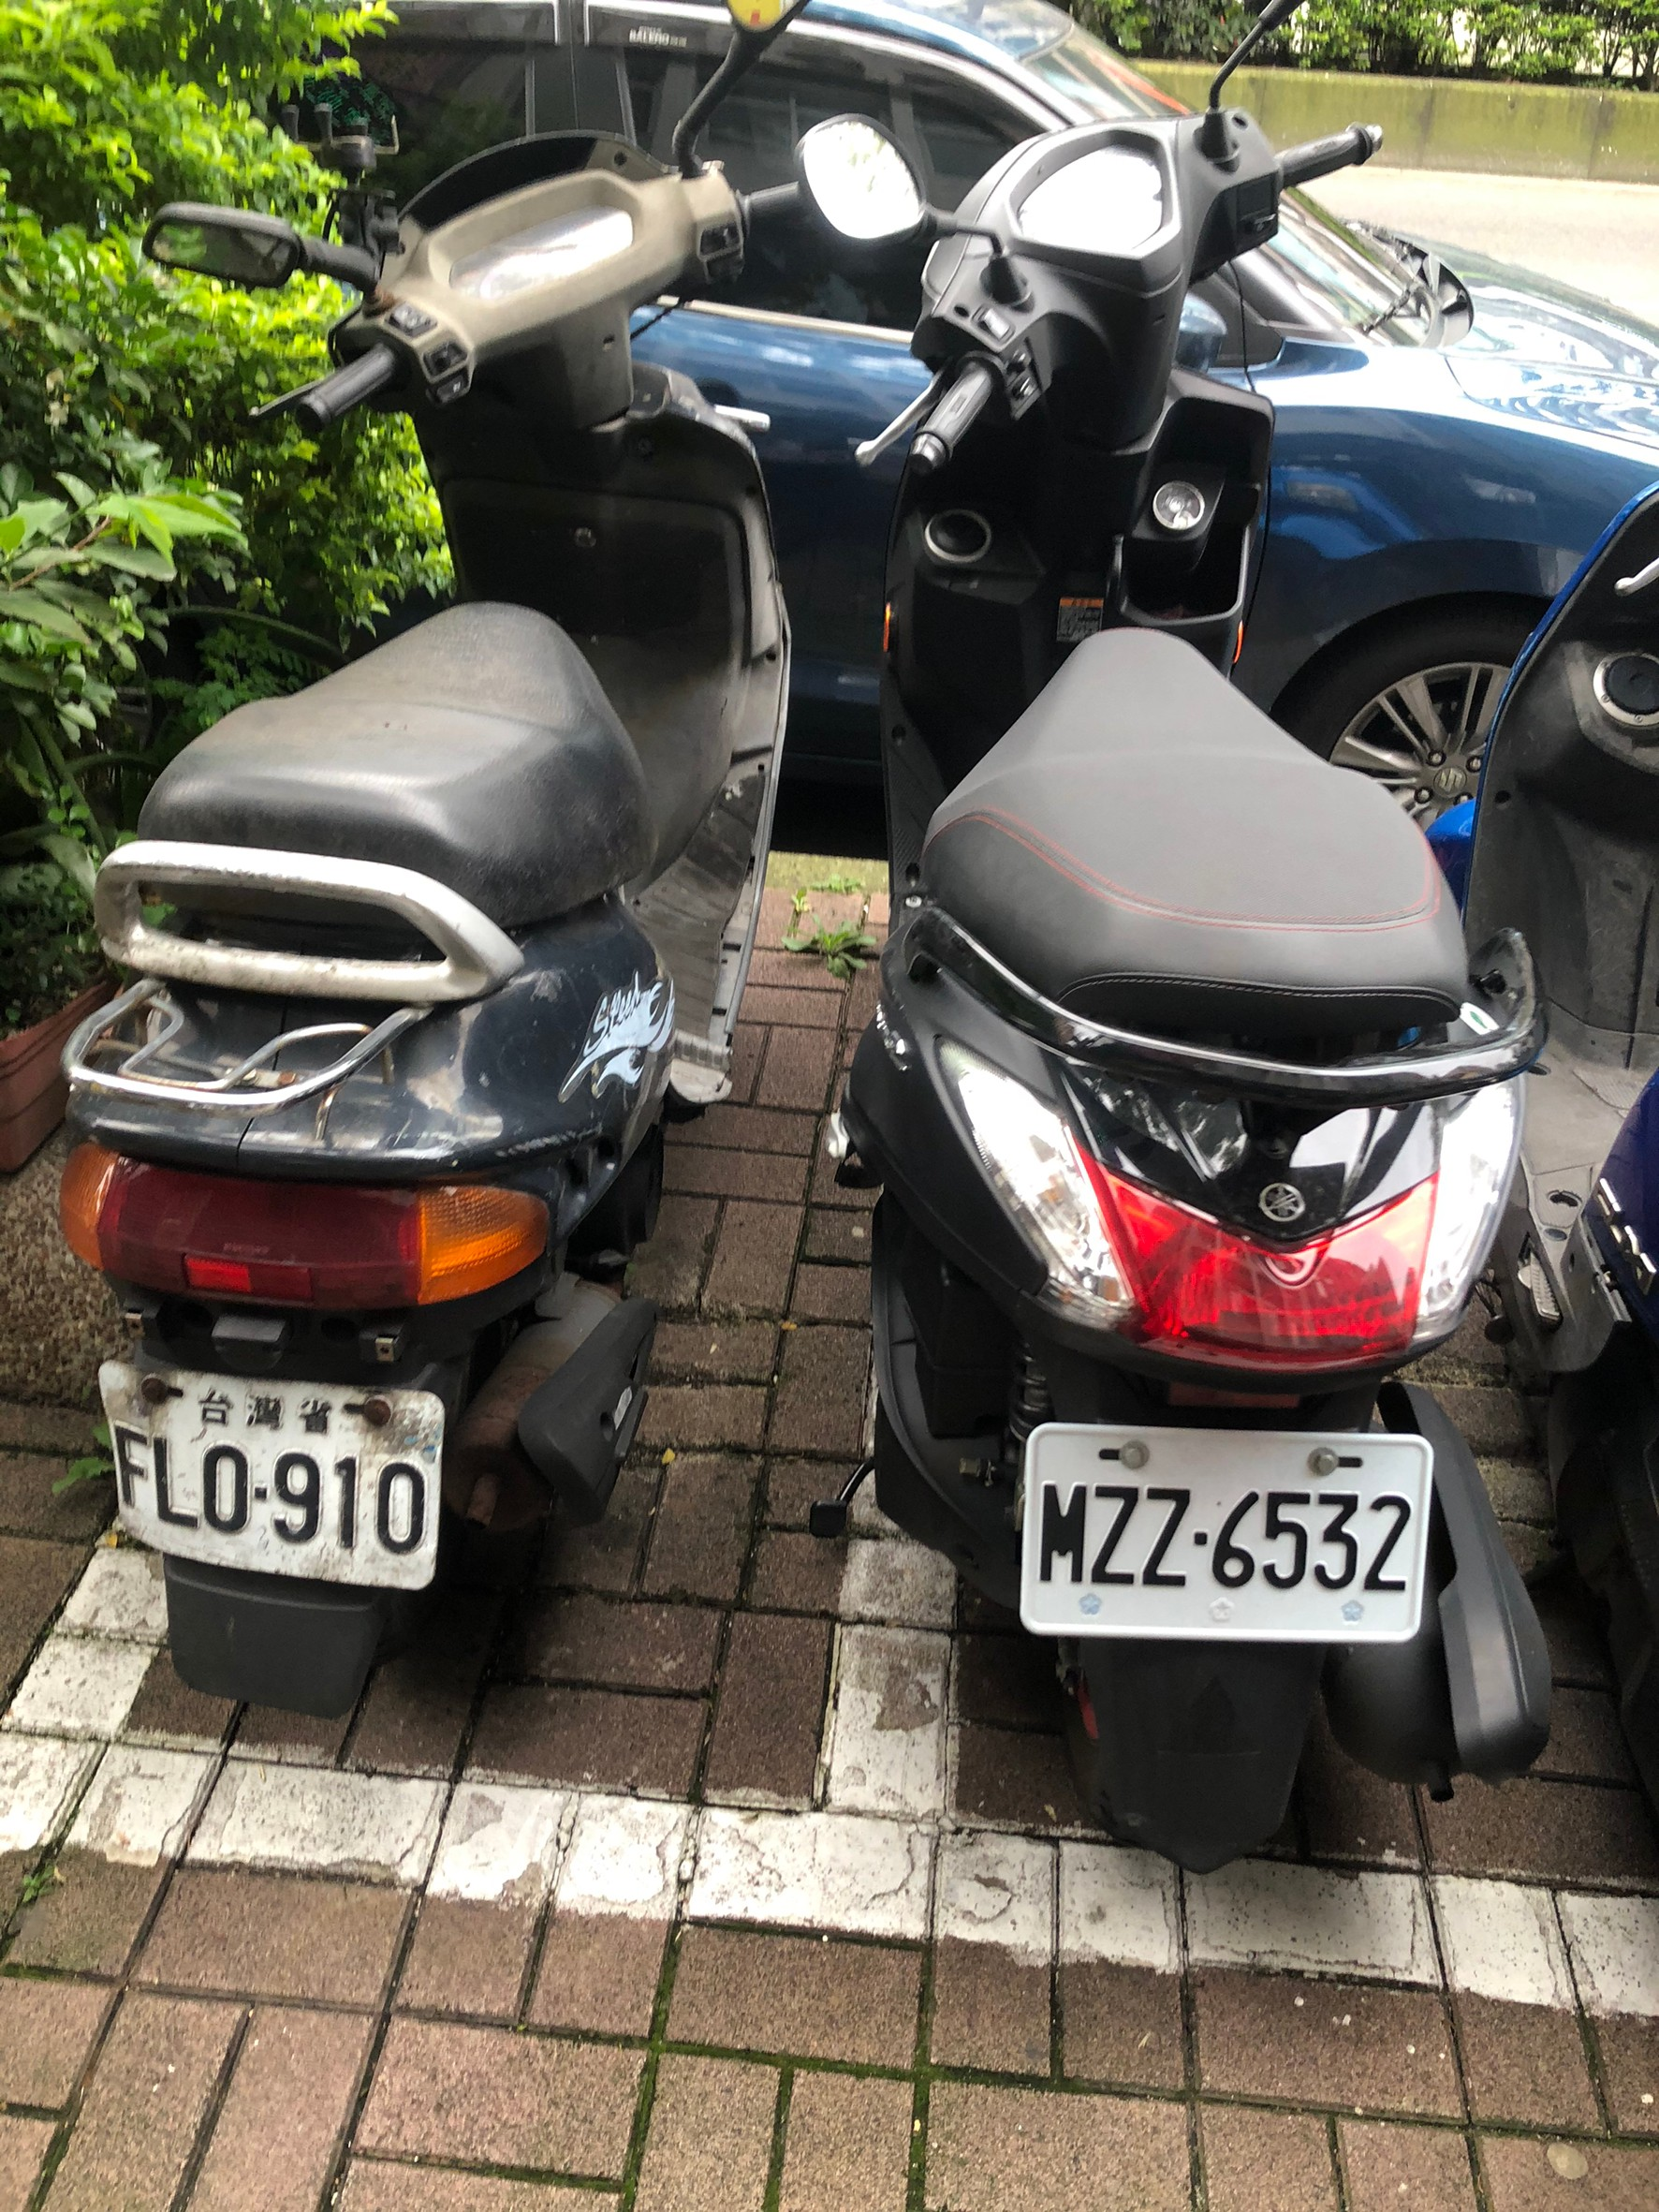LP: (1021, 1410, 1429, 1644), (92, 1365, 446, 1595)
